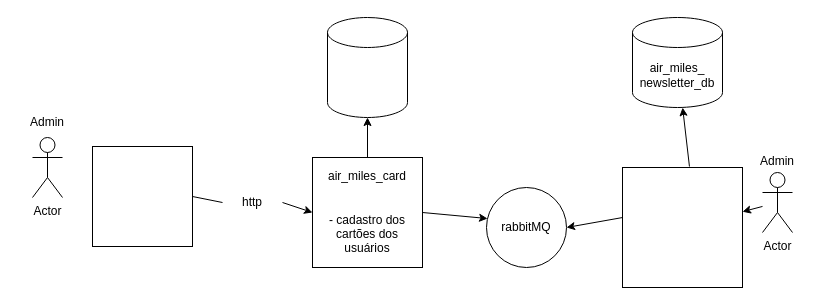
The diagram is 824 pixels wide and 305 high, and some of its shapes have lost their labels. Here are the shapes that lost their labels. From the top down, the box of each, then its label:
(326, 16, 408, 118): air_miles_ card_db
(92, 146, 192, 246): air_miles_web
(622, 166, 742, 288): air_miles_newsletter
